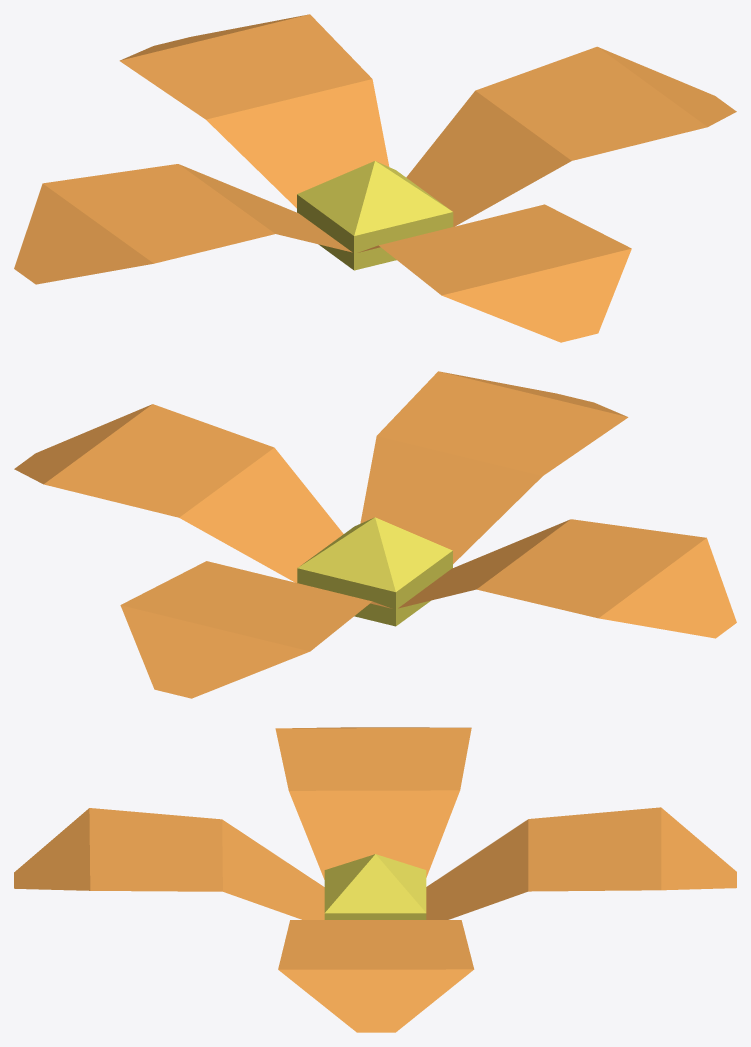
Rendered from Flower_Orange_3.fbx.
3 views of the same model, one above another, from view 1: azimuth 30°, elevation 25°; view 2: azimuth 150°, elevation 25°; view 3: azimuth 270°, elevation 25° (orthographic). The views are drawn at different scales.
Parts seen in each view (by area): view 1: Flower_Orange_3; view 2: Flower_Orange_3; view 3: Flower_Orange_3.
Boxes of the visible parts, <box> form: Flower_Orange_3: <box>14,14,736,342</box>; Flower_Orange_3: <box>14,371,736,698</box>; Flower_Orange_3: <box>14,727,736,1032</box>.
Size of the model in its own units: 35.83 by 4.02 by 35.83.
